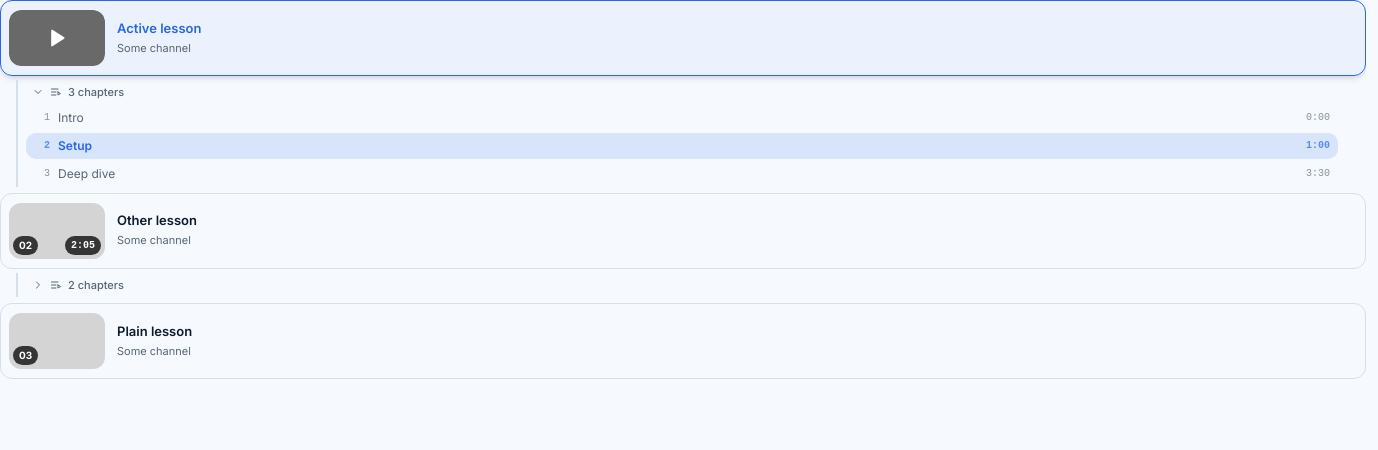
Test case: VideoList nested chapters › expanding a collapsed video reveals its chapters
What coordinates should you click on to do the following:
click the button with aria-label "Show chapters of Other lesson"
I would click on:
 (96, 284)
Its box is [26,272,1366,297].
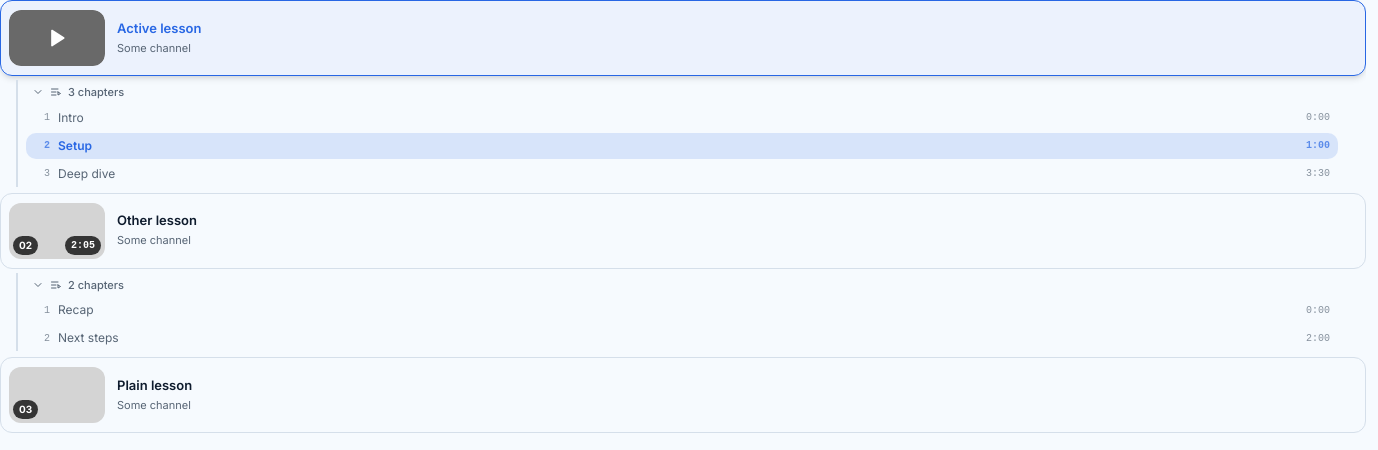
expect the text "Recap" is shown: met, box [58,302,94,317]
expect the text "Next steps" is shown: met, box [58,330,119,345]
expect the button with aria-label "Hide chapters of Other lesson" is shown: met, box [26,272,1366,297]
